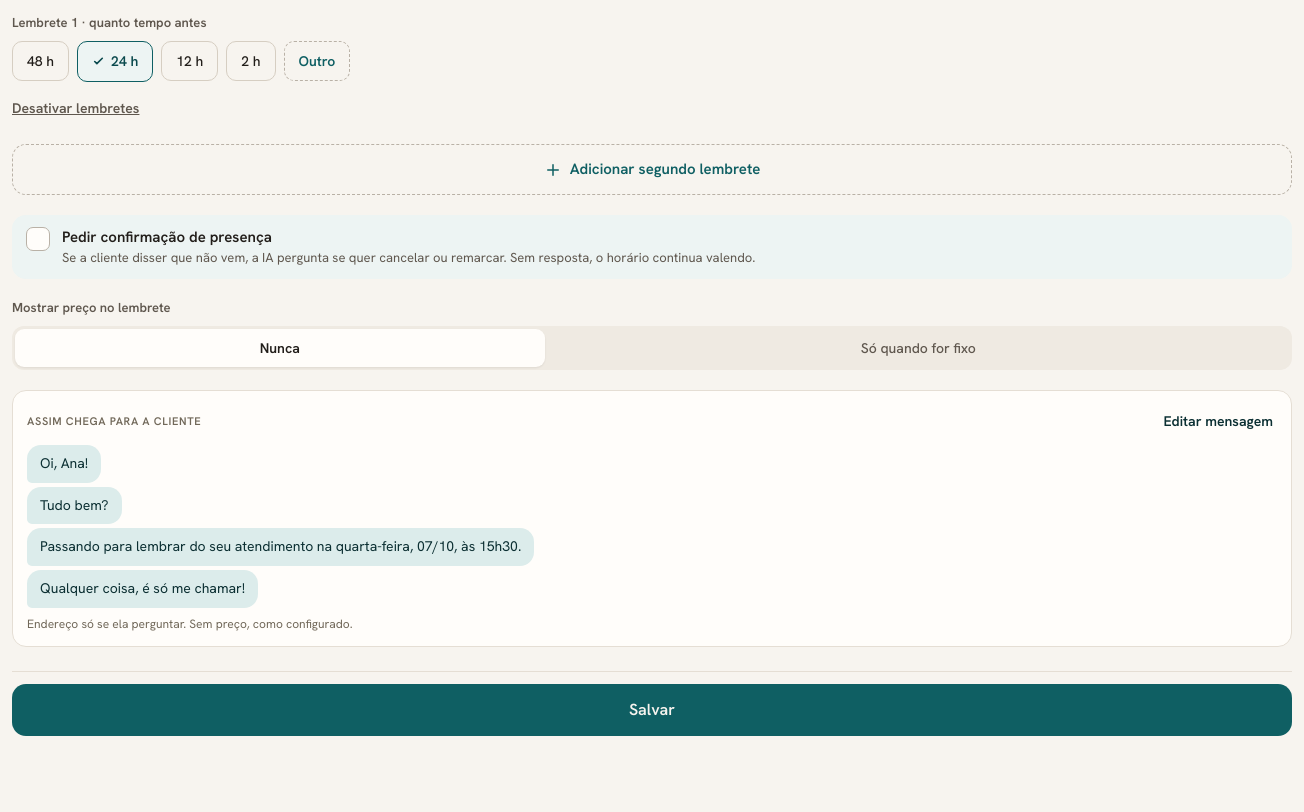
salvar › não grava nada antes de 'Salvar' e grava uma vez, com uma regra
This screenshot has width=1304, height=812.
Check: the text "Lembrete 1 · quanto tempo antes" is shown, box [12, 14, 206, 31]
Click the button "12 h". click: (190, 61)
box: [161, 41, 218, 81]
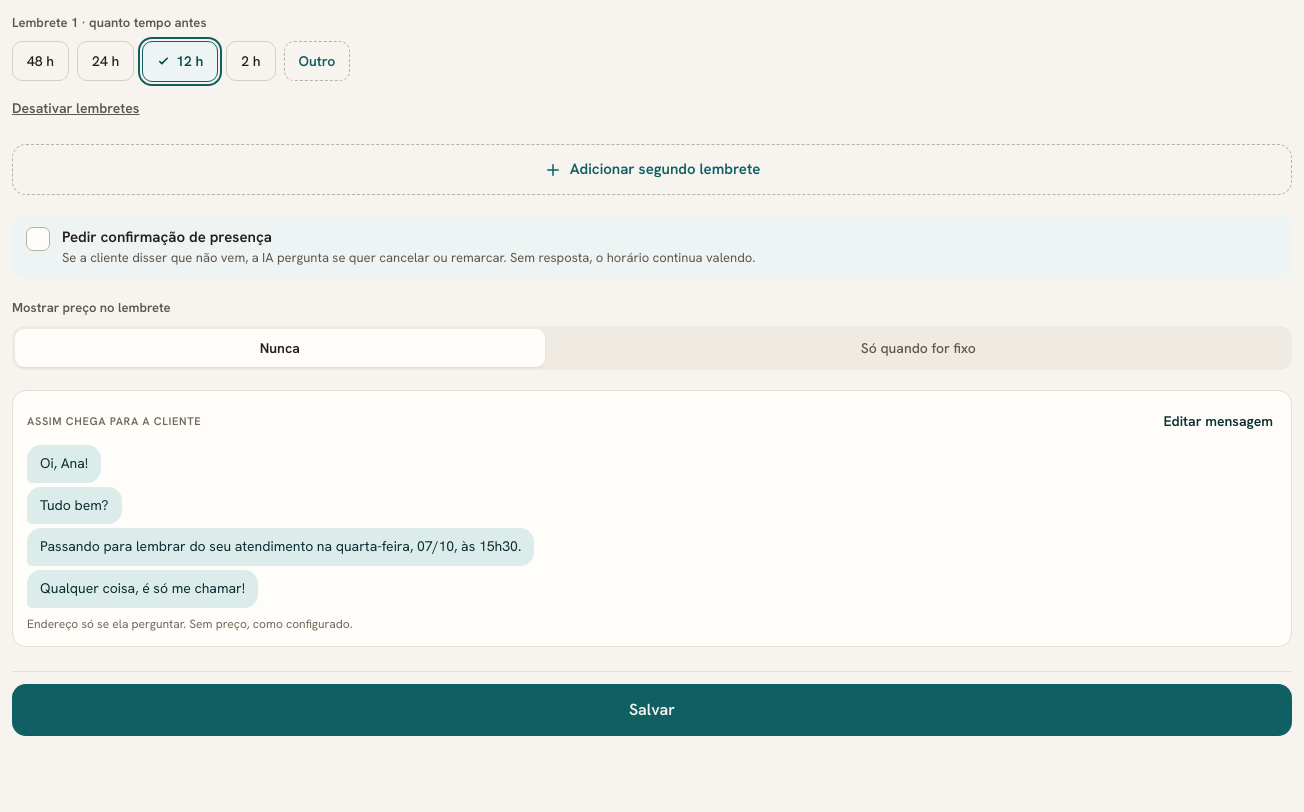
Click the checkbox. click: (652, 247)
box: [12, 215, 1292, 279]
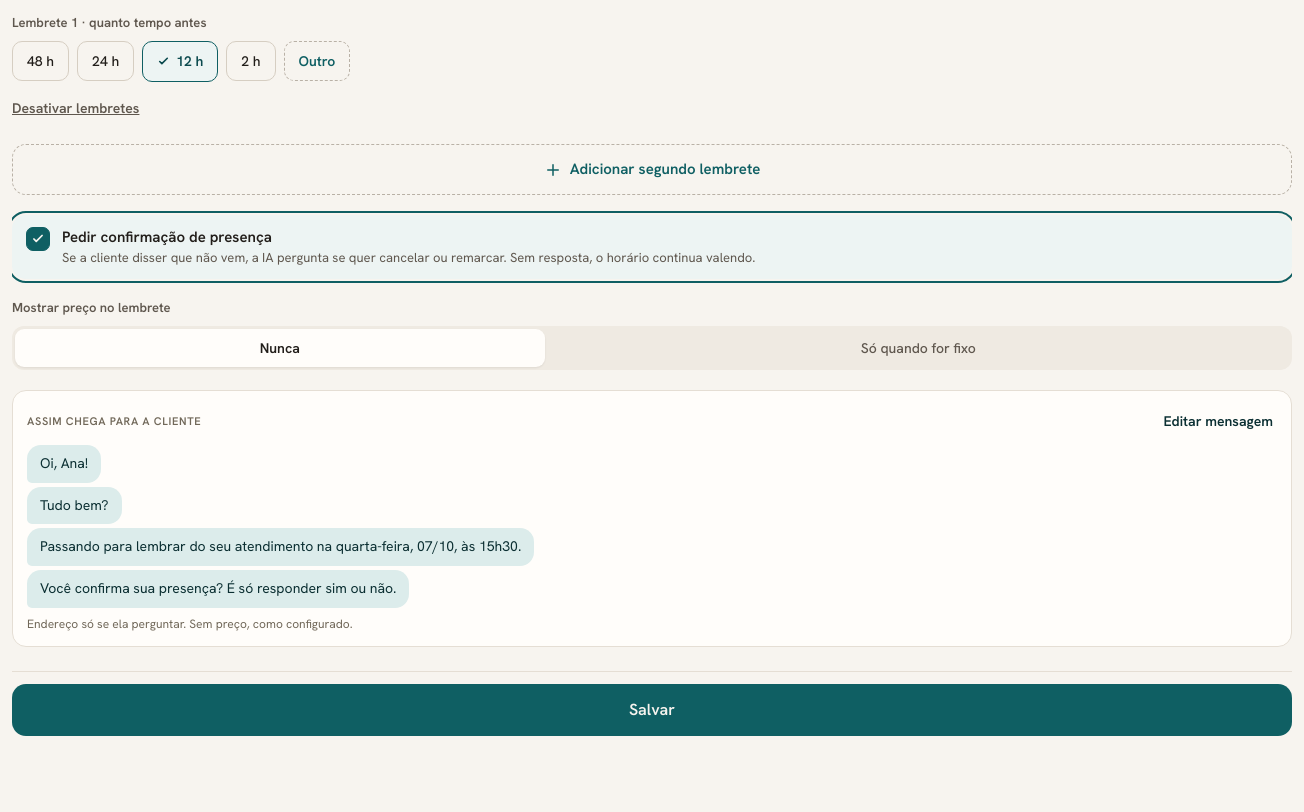
Click the button "Salvar". click: (652, 710)
box: [12, 684, 1292, 736]
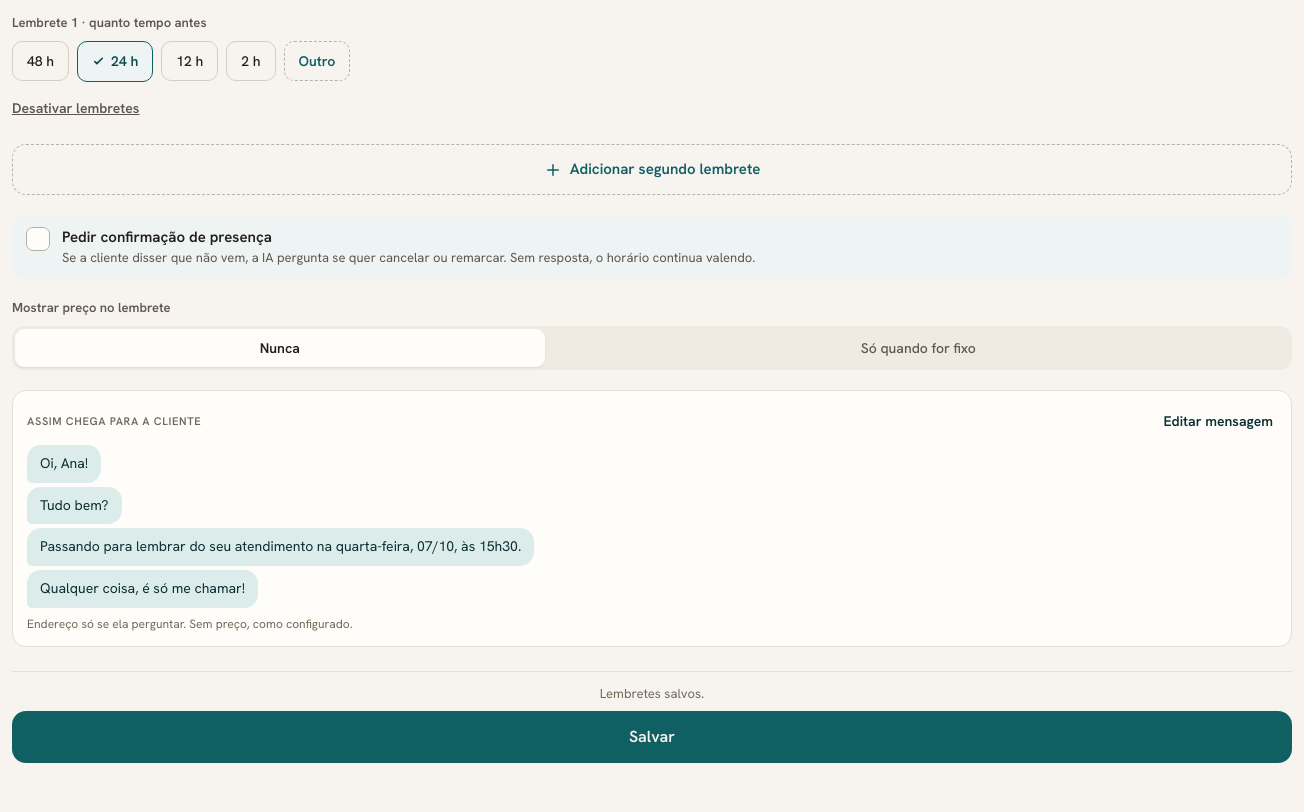
Check: the text "Lembretes salvos." is shown, box [600, 685, 704, 702]
